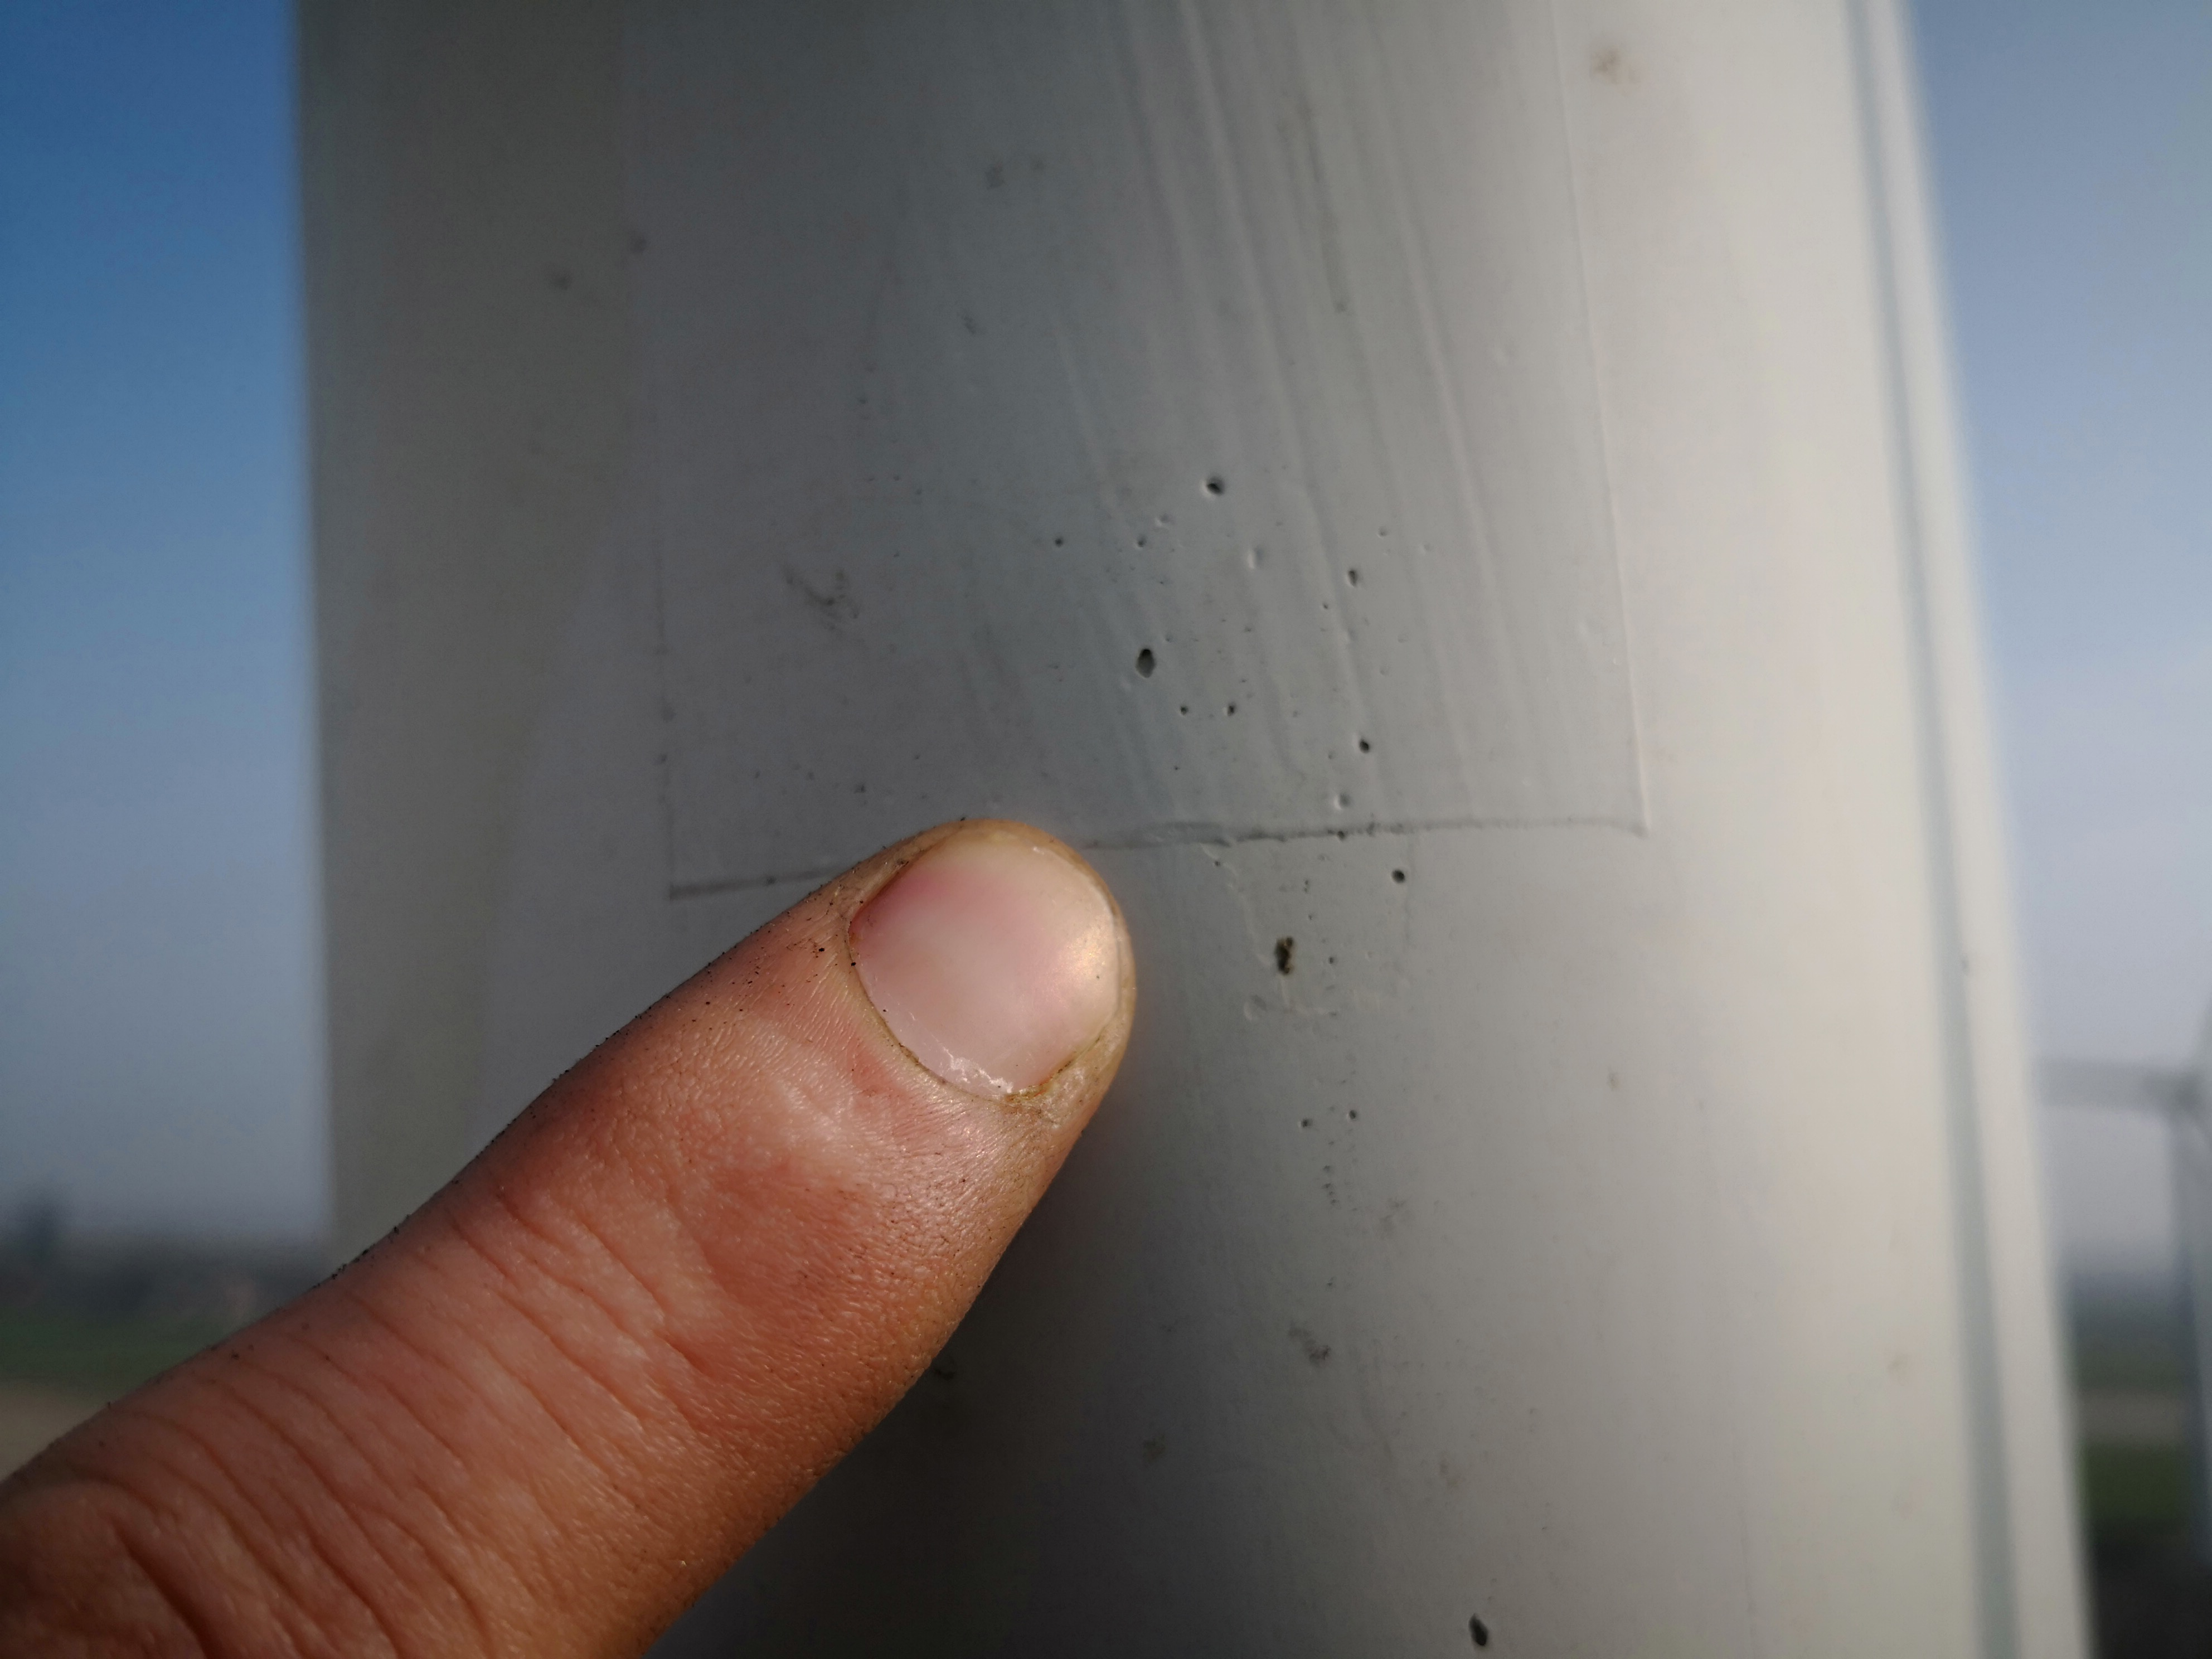SD: (1334, 728, 1453, 899), (1245, 904, 1315, 988), (1123, 610, 1184, 699), (1197, 471, 1261, 554), (1456, 1600, 1507, 1659)
